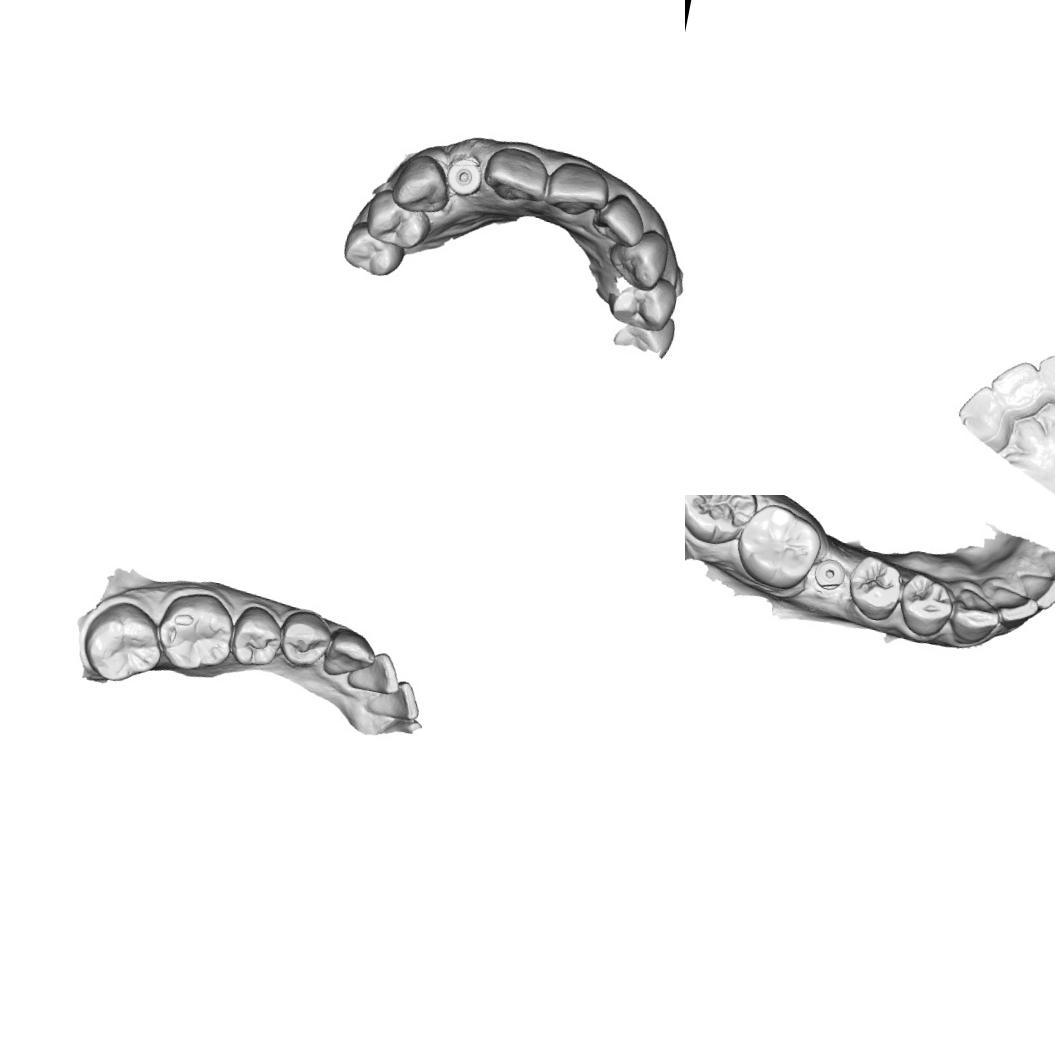canine: (603, 223, 674, 295), (387, 148, 457, 219), (945, 584, 1005, 652), (319, 622, 380, 684)
implant: (444, 154, 488, 198), (808, 553, 851, 594)
incisor: (541, 152, 612, 222), (482, 144, 556, 208), (984, 355, 1052, 424), (590, 188, 650, 248), (985, 580, 1046, 633), (344, 644, 406, 696), (364, 674, 425, 722), (1012, 567, 1055, 615), (1031, 346, 1055, 410), (1032, 551, 1055, 587)
molar: (728, 496, 828, 596), (75, 594, 170, 690), (149, 584, 242, 678), (685, 495, 762, 551)
premolar: (604, 268, 680, 336), (840, 549, 908, 625), (892, 568, 959, 642), (224, 601, 290, 673), (362, 189, 435, 253), (273, 605, 335, 673), (336, 220, 406, 280)
